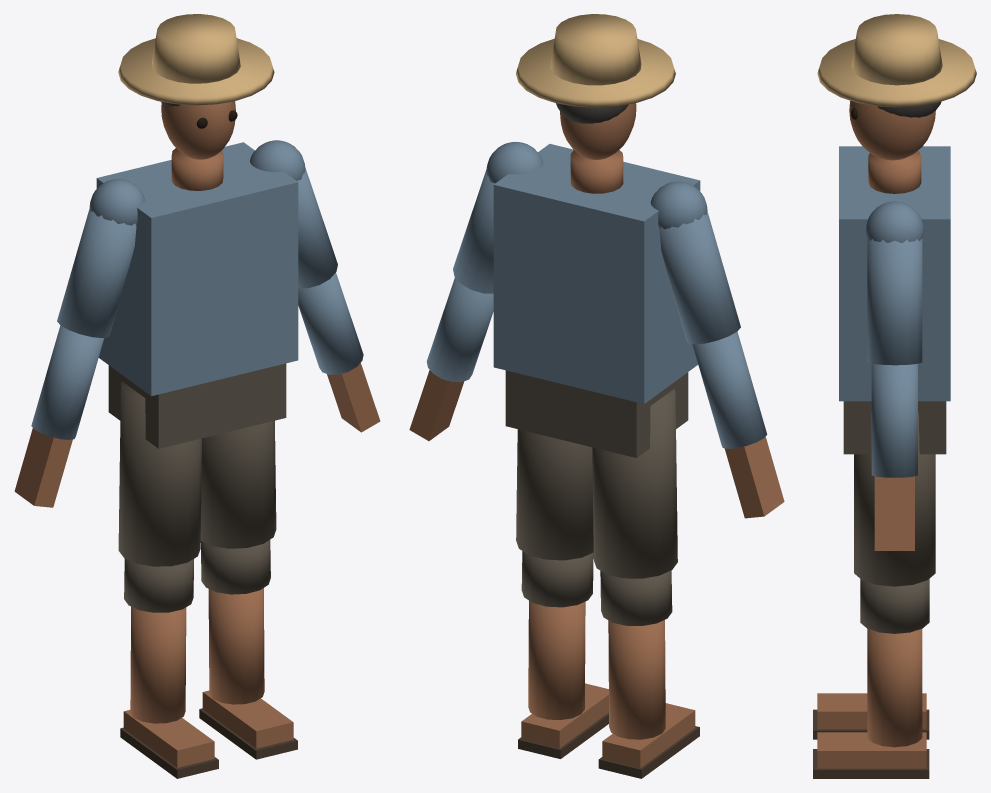
The model's file is char-daniel.glb.
3 renders of one model, left to right at view 1: azimuth 30°, elevation 25°; view 2: azimuth 150°, elevation 25°; view 3: azimuth 270°, elevation 25°, orthographic. The views are drawn at different scales.
Parts seen in each view (by area): view 1: CHR_daniel_body, CHR_daniel_thigh_R, CHR_daniel_thigh_L, CHR_daniel_hips, CHR_daniel_upperarm_R, CHR_daniel_calf_R, CHR_daniel_calf_L, CHR_daniel_hat_crown, CHR_daniel_hat_brim, CHR_daniel_forearm_R, CHR_daniel_forearm_L, CHR_daniel_head (+12 smaller); view 2: CHR_daniel_body, CHR_daniel_thigh_R, CHR_daniel_thigh_L, CHR_daniel_hips, CHR_daniel_upperarm_R, CHR_daniel_calf_R, CHR_daniel_calf_L, CHR_daniel_hat_crown, CHR_daniel_hat_brim, CHR_daniel_forearm_R, CHR_daniel_forearm_L, CHR_daniel_shin_R (+13 smaller); view 3: CHR_daniel_body, CHR_daniel_upperarm_L, CHR_daniel_thigh_L, CHR_daniel_calf_L, CHR_daniel_hat_crown, CHR_daniel_hat_brim, CHR_daniel_forearm_L, CHR_daniel_foot_L, CHR_daniel_head, CHR_daniel_shin_L, CHR_daniel_hips, CHR_daniel_hand_L (+6 smaller).
Boxes of the visible parts, <box> form: CHR_daniel_body: <box>96,142,298,396</box>; CHR_daniel_thigh_R: <box>118,381,201,566</box>; CHR_daniel_thigh_L: <box>200,420,276,548</box>; CHR_daniel_hips: <box>108,363,286,448</box>; CHR_daniel_upperarm_R: <box>57,207,136,337</box>; CHR_daniel_calf_R: <box>130,606,186,723</box>; CHR_daniel_calf_L: <box>208,588,264,704</box>; CHR_daniel_hat_crown: <box>152,14,240,83</box>; CHR_daniel_hat_brim: <box>118,38,274,105</box>; CHR_daniel_forearm_R: <box>31,325,104,439</box>; CHR_daniel_forearm_L: <box>298,273,363,374</box>; CHR_daniel_head: <box>161,101,235,159</box>; CHR_daniel_body: <box>493,144,700,403</box>; CHR_daniel_thigh_R: <box>592,389,677,578</box>; CHR_daniel_thigh_L: <box>516,429,593,560</box>; CHR_daniel_hips: <box>505,370,688,457</box>; CHR_daniel_upperarm_R: <box>659,210,740,344</box>; CHR_daniel_calf_R: <box>608,620,665,739</box>; CHR_daniel_calf_L: <box>528,600,585,719</box>; CHR_daniel_hat_crown: <box>550,14,641,85</box>; CHR_daniel_hat_brim: <box>516,38,675,107</box>; CHR_daniel_forearm_R: <box>692,331,767,448</box>; CHR_daniel_forearm_L: <box>426,277,493,382</box>; CHR_daniel_shin_R: <box>600,570,672,625</box>; CHR_daniel_body: <box>839,146,950,401</box>; CHR_daniel_upperarm_L: <box>867,238,922,365</box>; CHR_daniel_thigh_L: <box>854,412,935,586</box>; CHR_daniel_calf_L: <box>867,628,922,747</box>; CHR_daniel_hat_crown: <box>851,14,942,85</box>; CHR_daniel_hat_brim: <box>817,39,976,107</box>; CHR_daniel_forearm_L: <box>871,364,917,477</box>; CHR_daniel_foot_L: <box>817,732,926,768</box>; CHR_daniel_head: <box>849,101,935,160</box>; CHR_daniel_shin_L: <box>860,579,929,633</box>; CHR_daniel_hips: <box>843,401,946,454</box>; CHR_daniel_hand_L: <box>874,474,914,550</box>.
Size of the model in its own units: 0.8952 by 1.74 by 0.3595.
